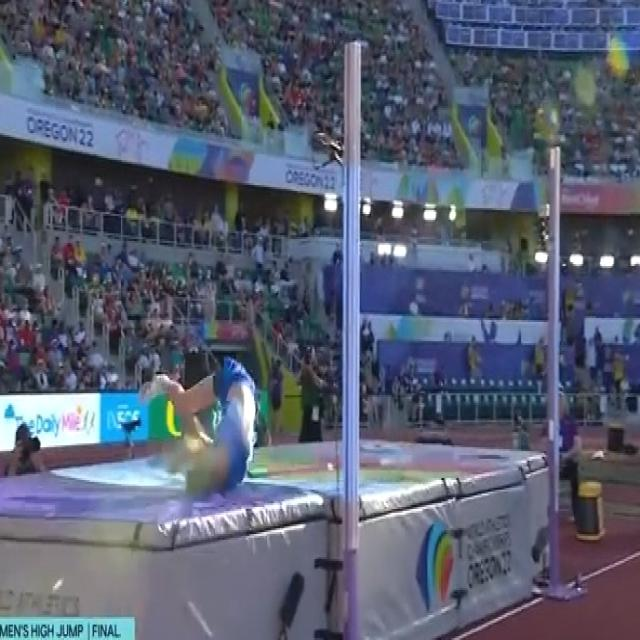land: (142, 360, 262, 491)
